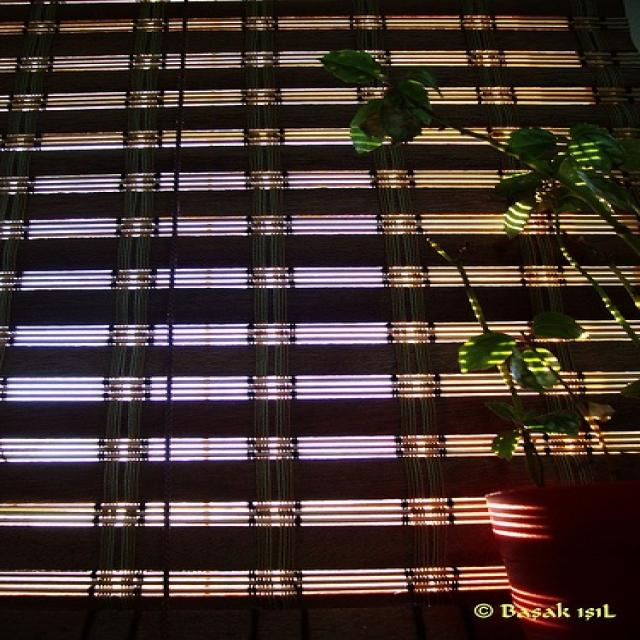pottedplant: (312, 35, 638, 638)
